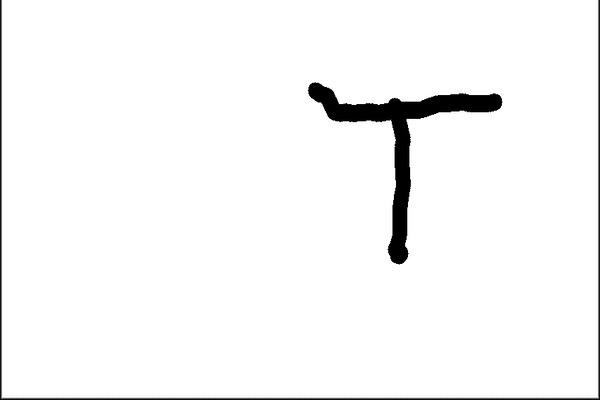T: (305, 76, 504, 266)
